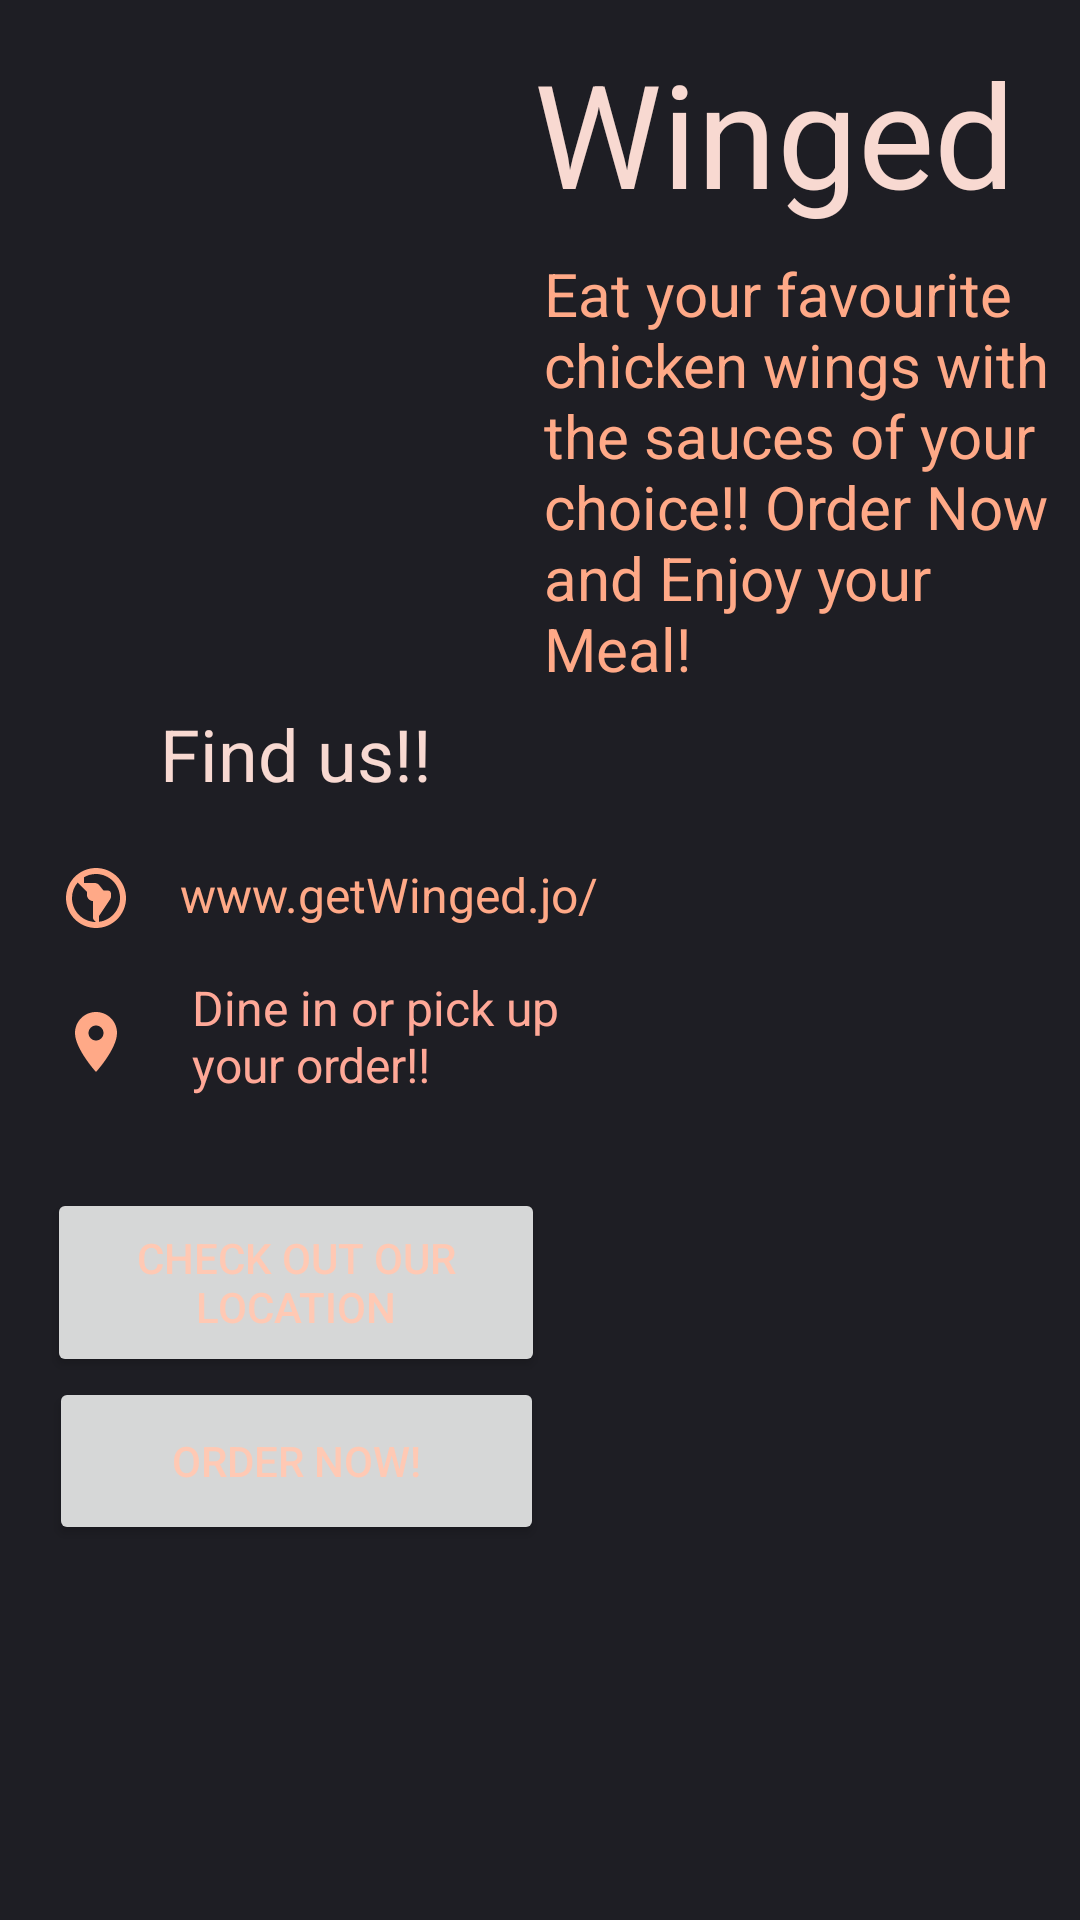

Where icons sit on this 1080px x 1920px app screen, as (x1, y1, x2, y2):
location on: (75, 1012, 117, 1072)
south america: (66, 868, 126, 928)
